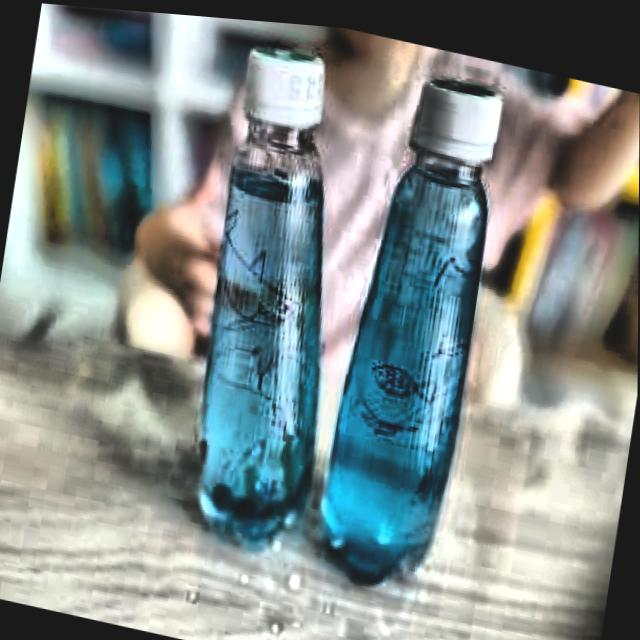Bottles: (300, 47, 525, 621), (150, 18, 380, 574)
